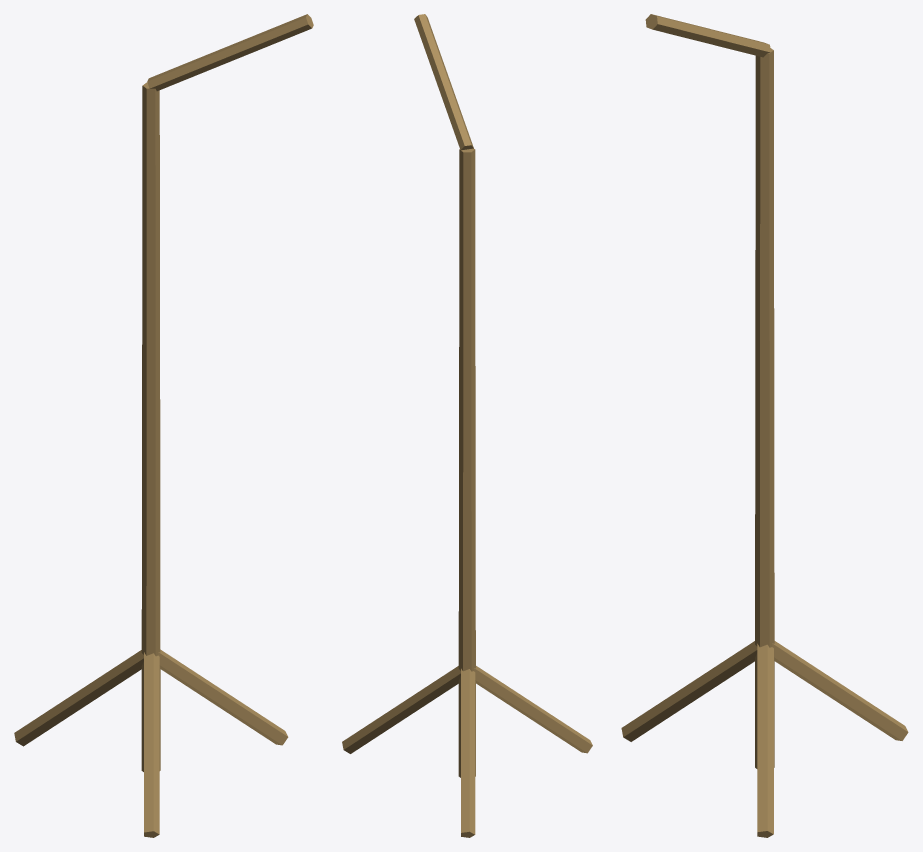
Rendered from RehearsalLamp.obj.
The picture shows the model from 3 angles, left to right: view 1: azimuth 30°, elevation 25°; view 2: azimuth 150°, elevation 25°; view 3: azimuth 270°, elevation 25°; orthographic projection. The views are drawn at different scales.
Parts seen in each view (by area): view 1: RehearsalLamp; view 2: RehearsalLamp; view 3: RehearsalLamp.
Boxes of the visible parts, <box> form: RehearsalLamp: <box>14,14,313,837</box>; RehearsalLamp: <box>342,14,592,837</box>; RehearsalLamp: <box>621,14,908,837</box>.
Bounding box in the file's own units: 0.5552 × 1.98 × 0.6347.
Materials: 1 (1 with a texture image).
